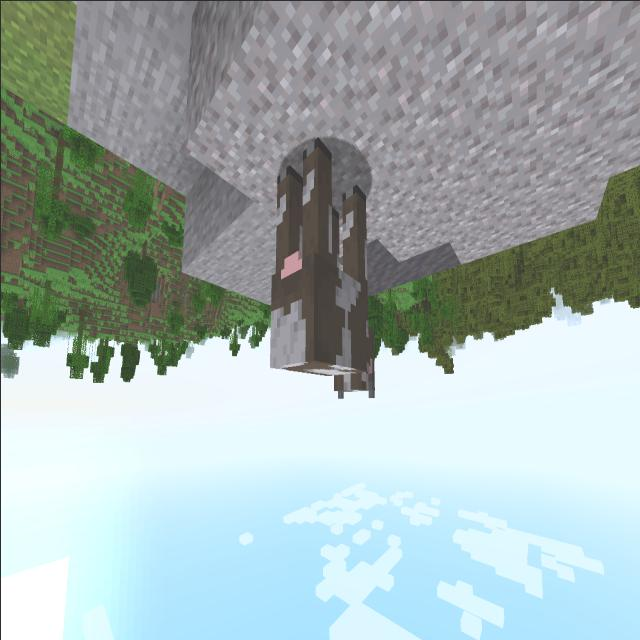cow: (260, 124, 386, 410)
